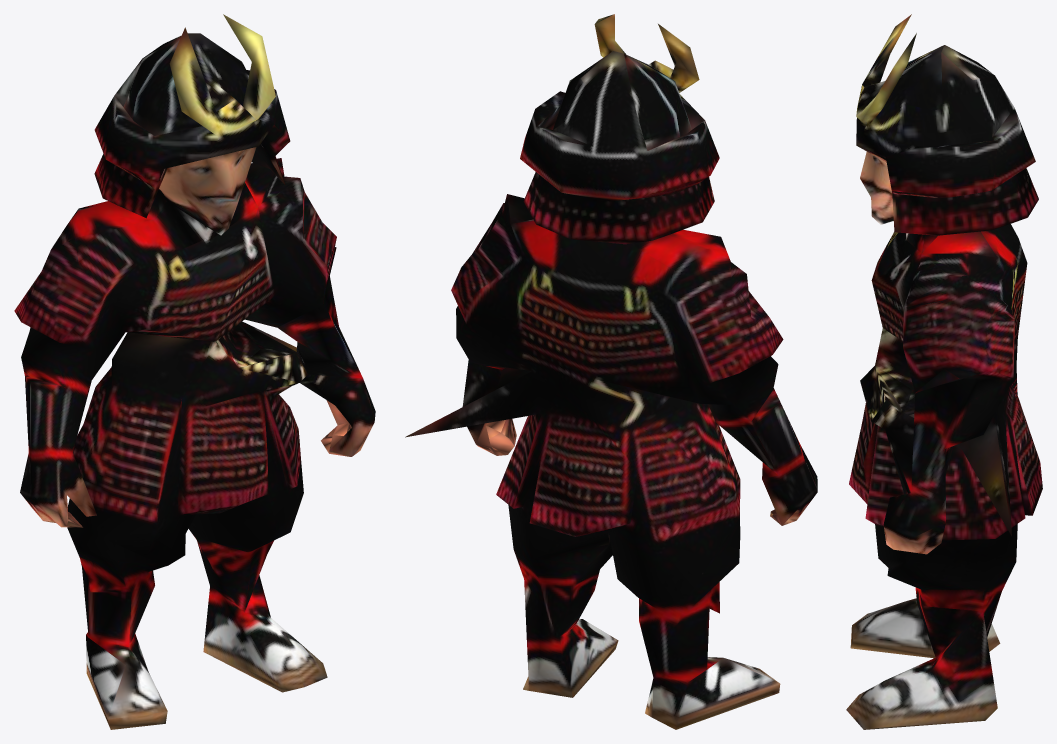
File: samurai-first-try.glb
3 views of the same model, side by side, from view 1: azimuth 30°, elevation 25°; view 2: azimuth 150°, elevation 25°; view 3: azimuth 270°, elevation 25° (orthographic).
Parts seen in each view (by area): view 1: samurai; view 2: samurai; view 3: samurai.
Part boxes in pixels (x1=…): samurai: x1=14, y1=14, x2=375, y2=729; samurai: x1=405, y1=14, x2=817, y2=729; samurai: x1=846, y1=14, x2=1042, y2=729.
Size of the model in its own units: 0.3013 by 0.5316 by 0.1435.
1 material, 1 textured.
